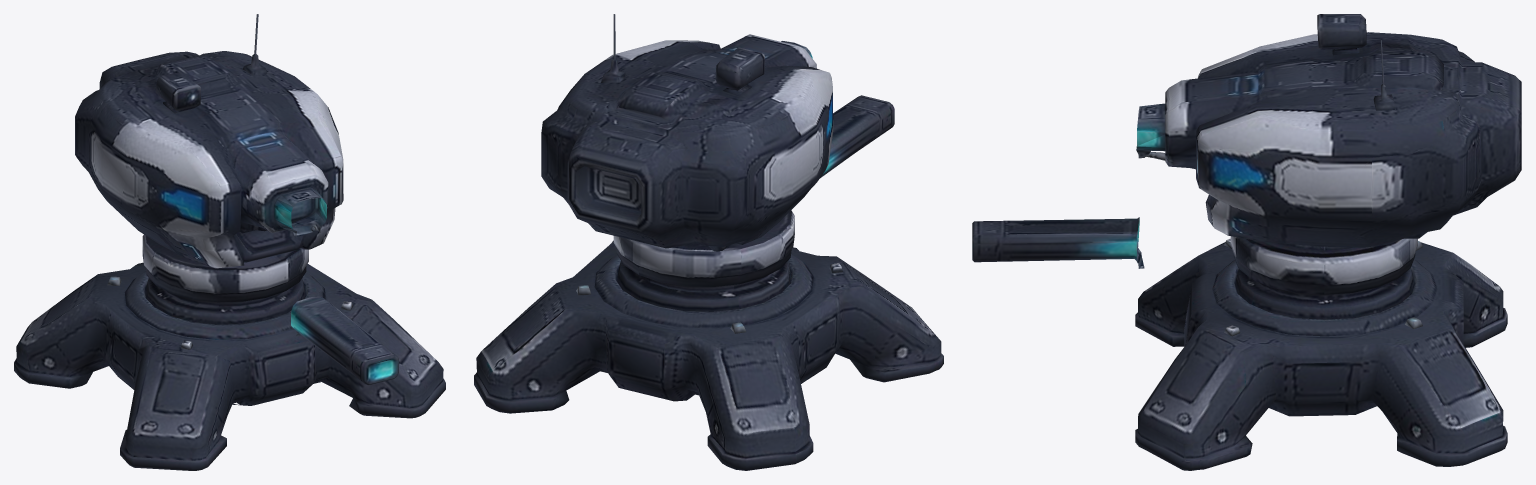
The picture shows the model from 3 angles, left to right: view 1: azimuth 30°, elevation 25°; view 2: azimuth 150°, elevation 25°; view 3: azimuth 270°, elevation 25°; orthographic projection. The views are drawn at different scales.
Parts seen in each view (by area): view 1: TurretHead, TurretBase, Barrel; view 2: TurretHead, TurretBase, Barrel; view 3: TurretHead, TurretBase, Barrel.
Boxes of the visible parts, <box> form: TurretHead: <box>75,14,343,319</box>; TurretBase: <box>14,262,445,470</box>; Barrel: <box>291,296,398,385</box>; TurretHead: <box>541,14,833,306</box>; TurretBase: <box>474,240,943,470</box>; Barrel: <box>820,95,894,178</box>; TurretHead: <box>1136,14,1521,313</box>; TurretBase: <box>1135,238,1507,470</box>; Barrel: <box>972,217,1144,268</box>.
Bounding box in the file's own units: 154 × 207 × 157.
Materials: 1 (1 with a texture image).
